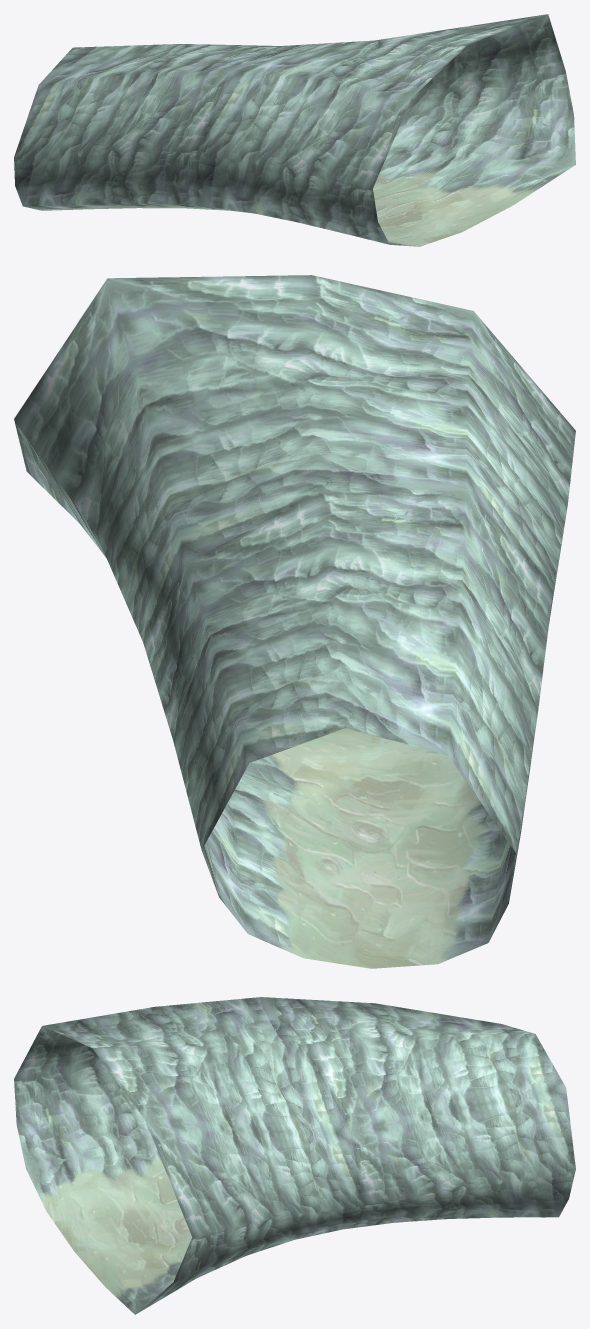
The model's file is TROLLHOLE02_PS-MAINCAVE05.fbx.
3 views of the same model, one above another, from view 1: azimuth 30°, elevation 25°; view 2: azimuth 150°, elevation 25°; view 3: azimuth 270°, elevation 25° (orthographic). The views are drawn at different scales.
Parts seen in each view (by area): view 1: TROLLHOLE02_PS-MAINCAVE05; view 2: TROLLHOLE02_PS-MAINCAVE05; view 3: TROLLHOLE02_PS-MAINCAVE05.
Part boxes in pixels (x1,y1,x2,y2): TROLLHOLE02_PS-MAINCAVE05: (14, 14, 575, 246); TROLLHOLE02_PS-MAINCAVE05: (14, 275, 575, 968); TROLLHOLE02_PS-MAINCAVE05: (14, 997, 575, 1314).
Bounding box in the file's own units: 114080 × 60251 × 109300.
2 materials, 2 textured.
